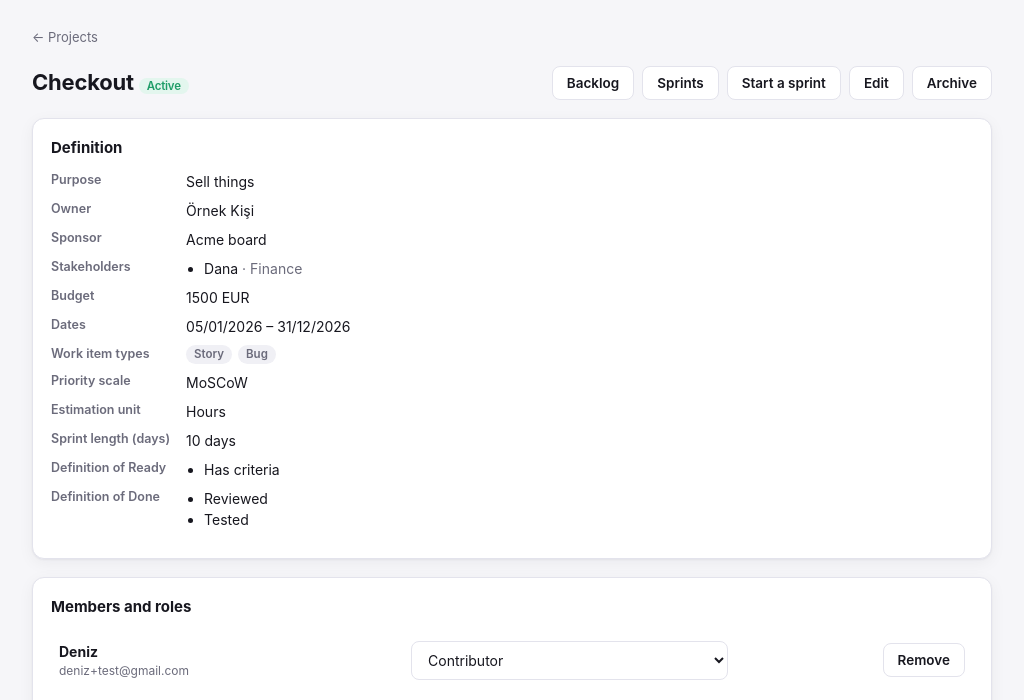
Test case: the project page: definition and status › archives after a confirmation, and shows the API's refusal
Click the button "Archive": x=952, y=82 left=912, top=66, right=992, bottom=100
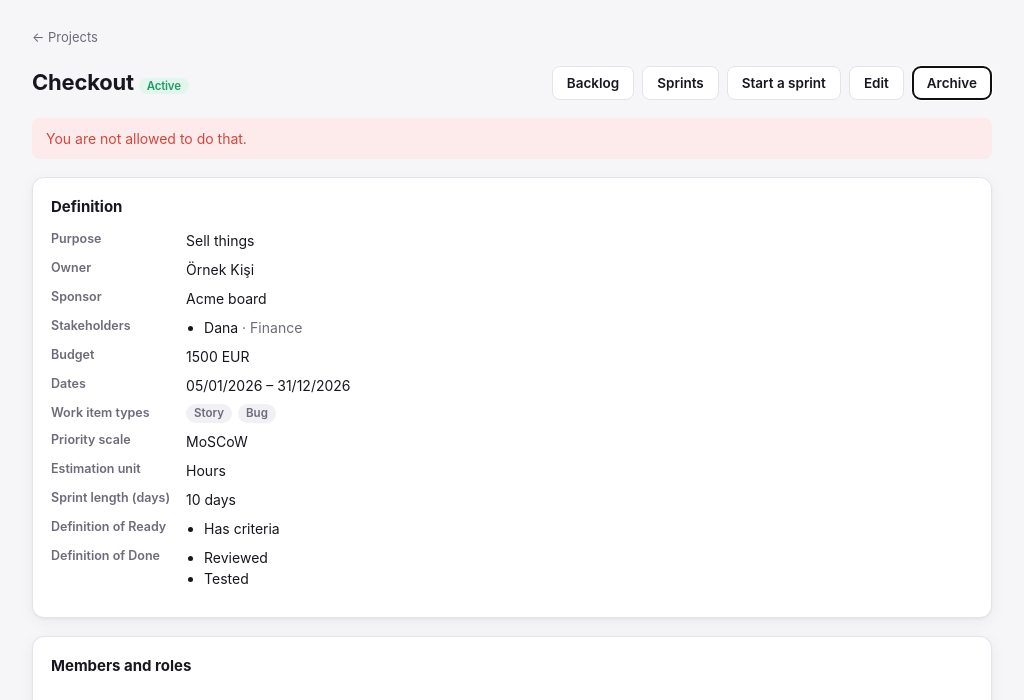
Expected: the text "You are not allowed to do that." is shown, left=32, top=118, right=992, bottom=158
